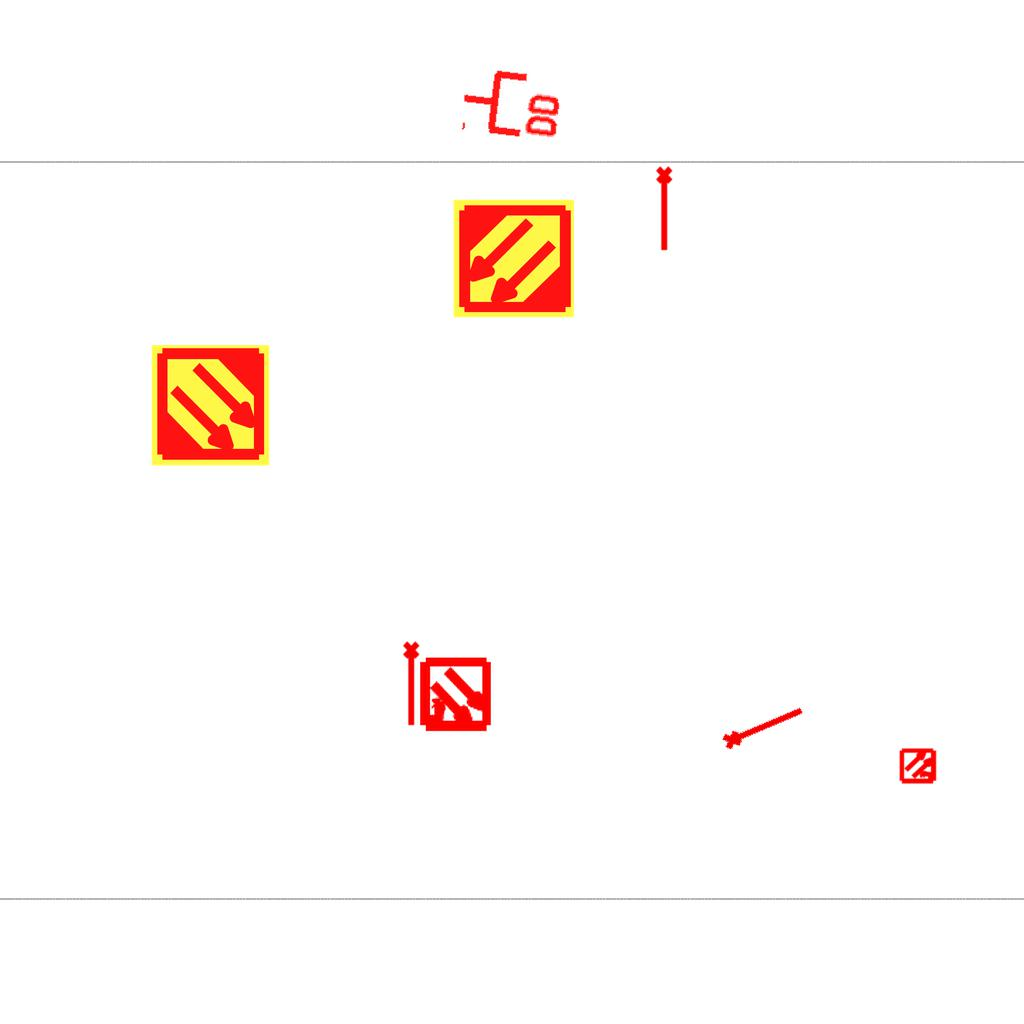ASR_Ansaugoeffnung: (718, 697, 808, 754), (654, 165, 677, 253), (401, 640, 424, 728)
ASR_Ansaugrauchmelder: (148, 343, 273, 468), (451, 196, 576, 321)
Datenanschluss_zweifach: (457, 61, 568, 144)
OT_Multisensormelder_(Kombination_RMO_WMD): (399, 640, 512, 753), (891, 738, 947, 794)
